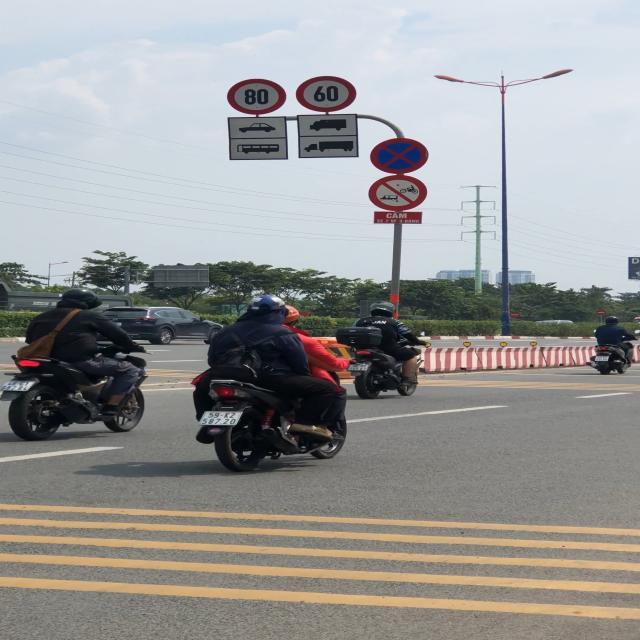Bien bao cam dung xe va do xe: (366, 136, 432, 176)
Bien bao toc do toi da cho phep: (292, 74, 359, 114), (227, 77, 286, 117)
